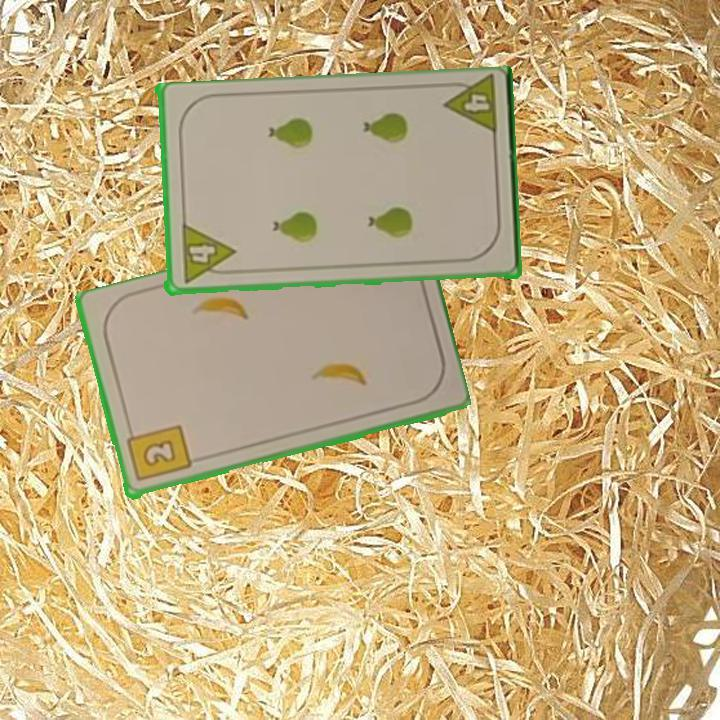2b: (123, 422, 193, 485)
4p: (439, 75, 500, 140), (177, 222, 237, 287)
